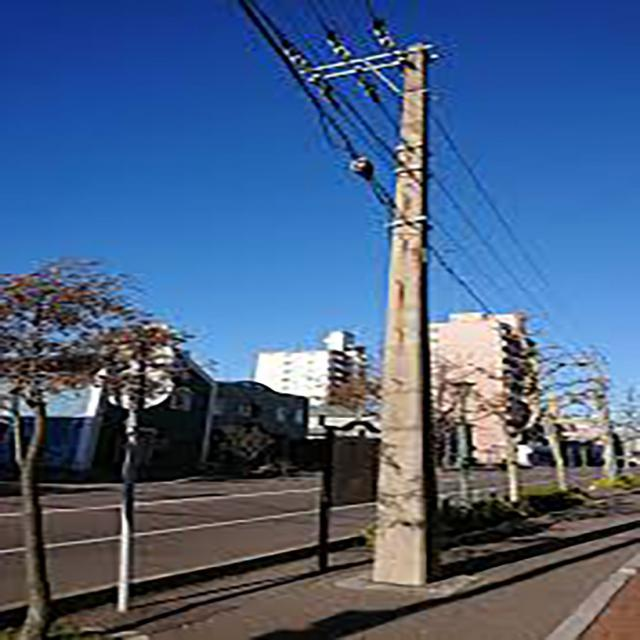pole: (255, 30, 476, 599)
